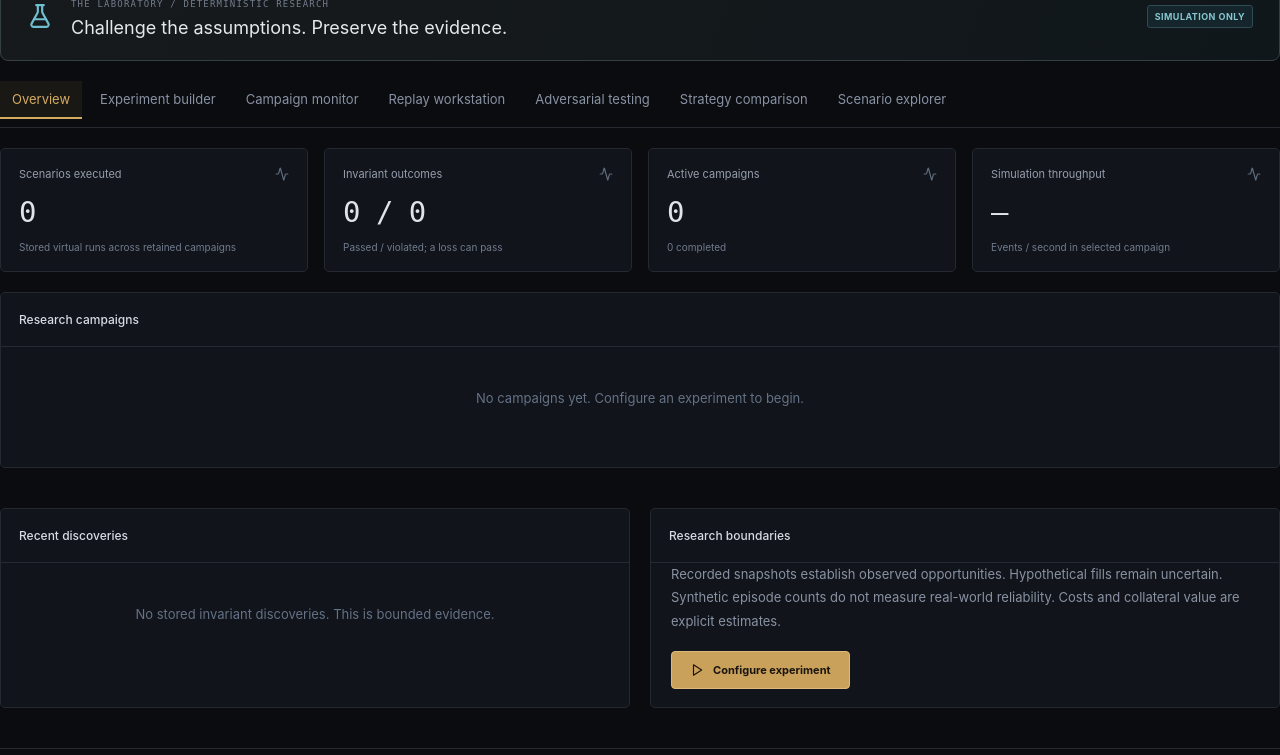
builder sends exact seeded comparison settings and surfaces backend validation
This screenshot has width=1280, height=755.
Click the tab "Experiment builder" at (158, 100), box [88,81,228,119]
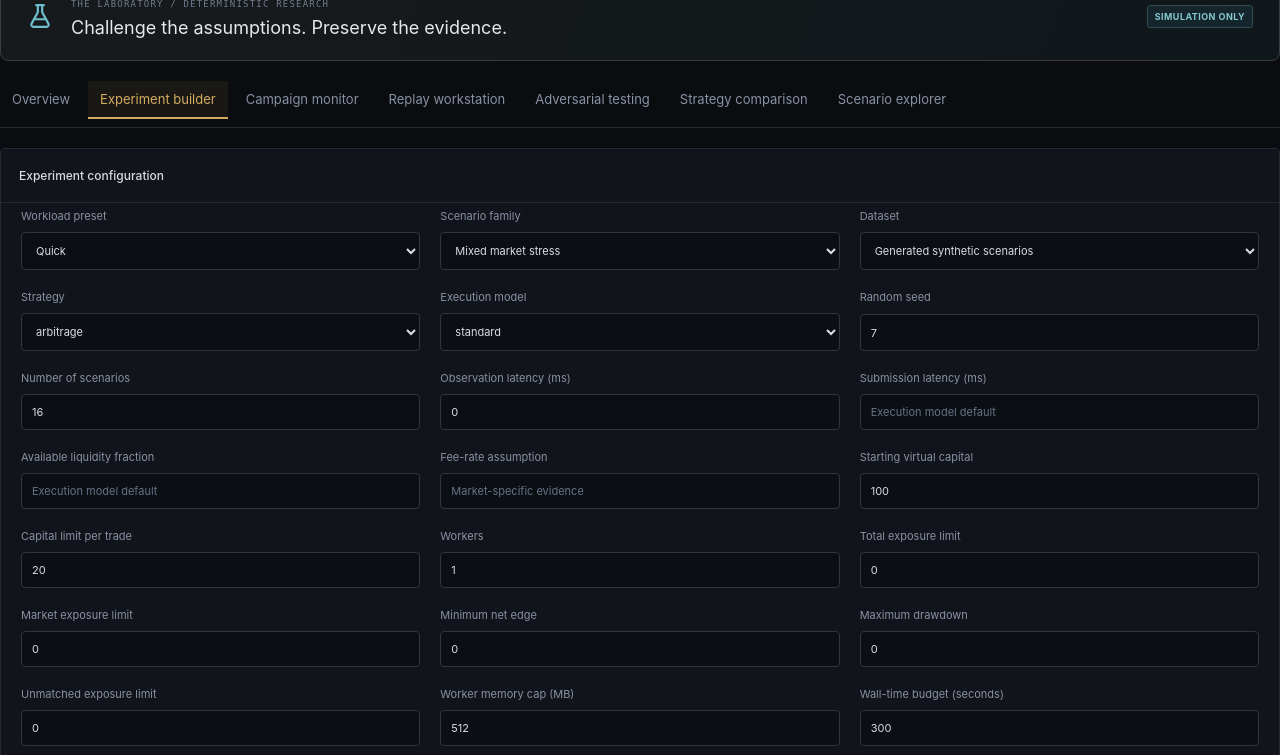
expect the heading "Experiment configuration" is shown: met, box [19,168,164,183]
Replace the text in the number field labelled "Random seed" with "42" at (1059, 332), box [860,314,1259,351]
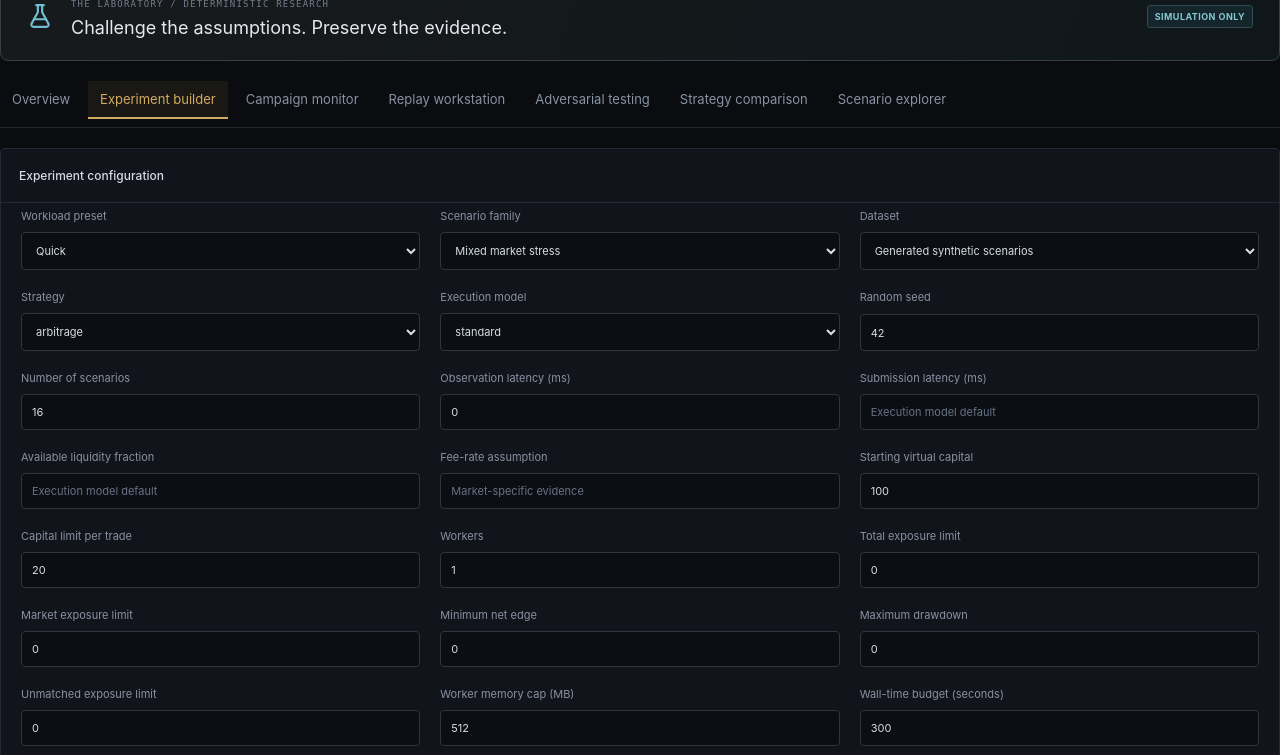
Replace the text in the number field labelled "Number of scenarios" with "4" at (221, 412), box [21,394,420,430]
(page scrolled)
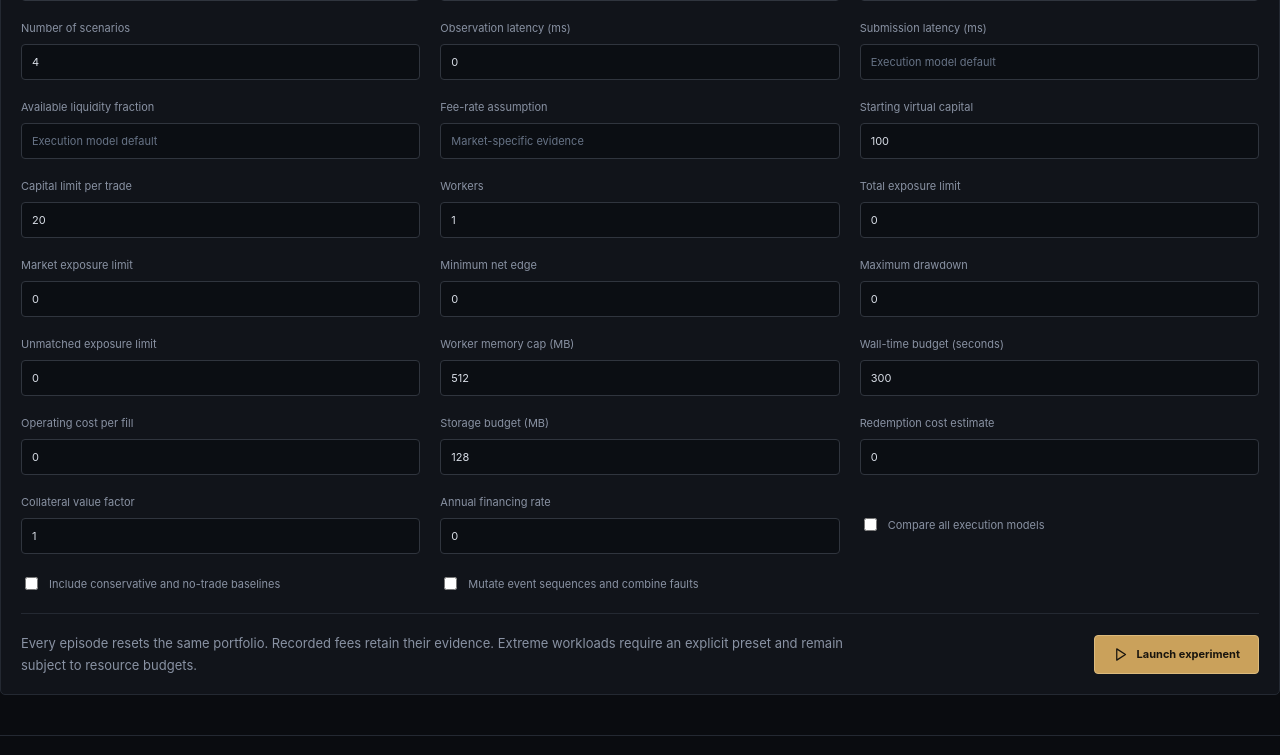
Click the checkbox labelled "Compare all execution models" at (870, 524), box [864,518,877,531]
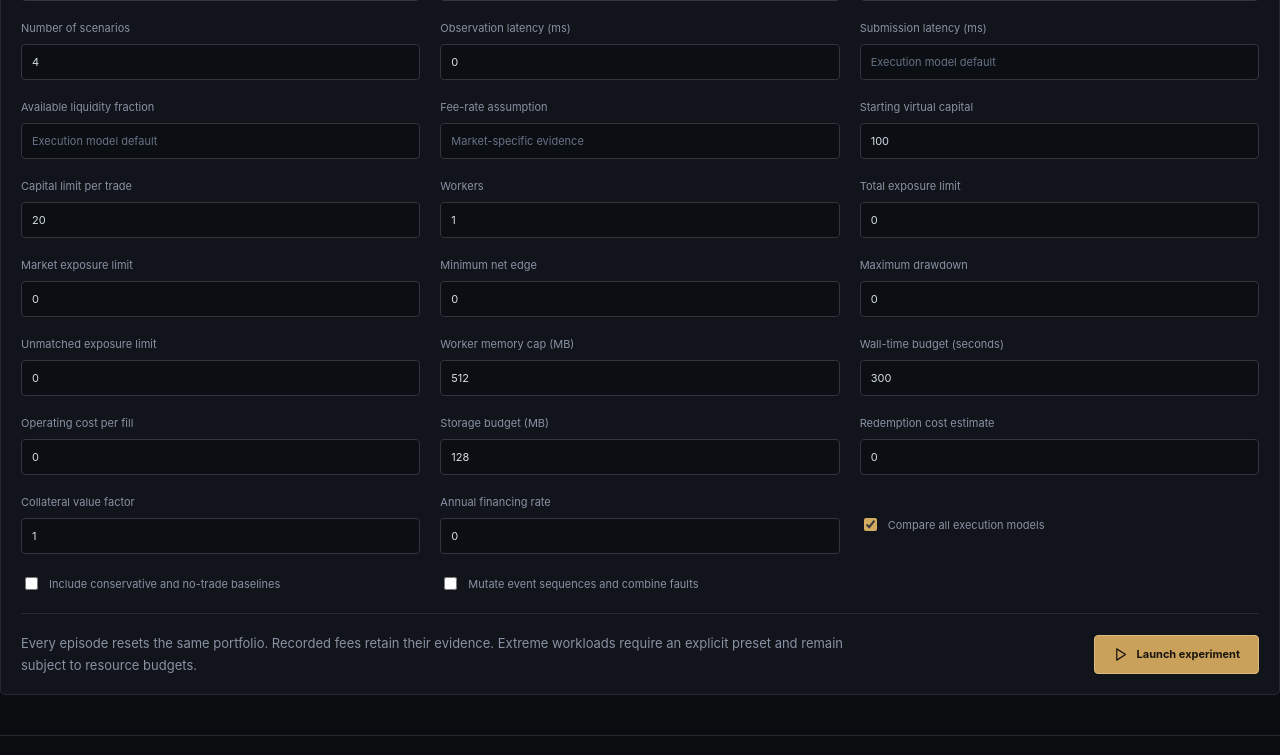
Click the button "Launch experiment" at (1176, 654), box [1094,635,1259,674]
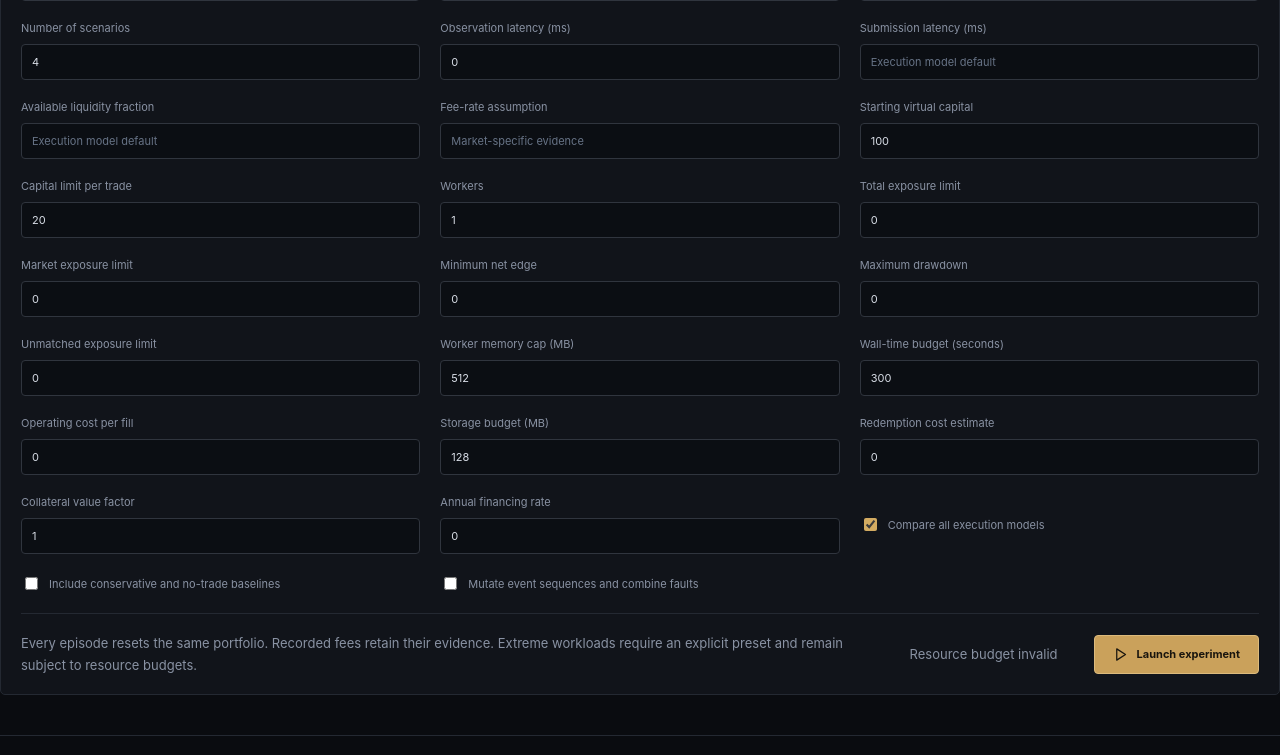
expect the message reads "Resource budget invalid": met, box [910,646,1058,662]
